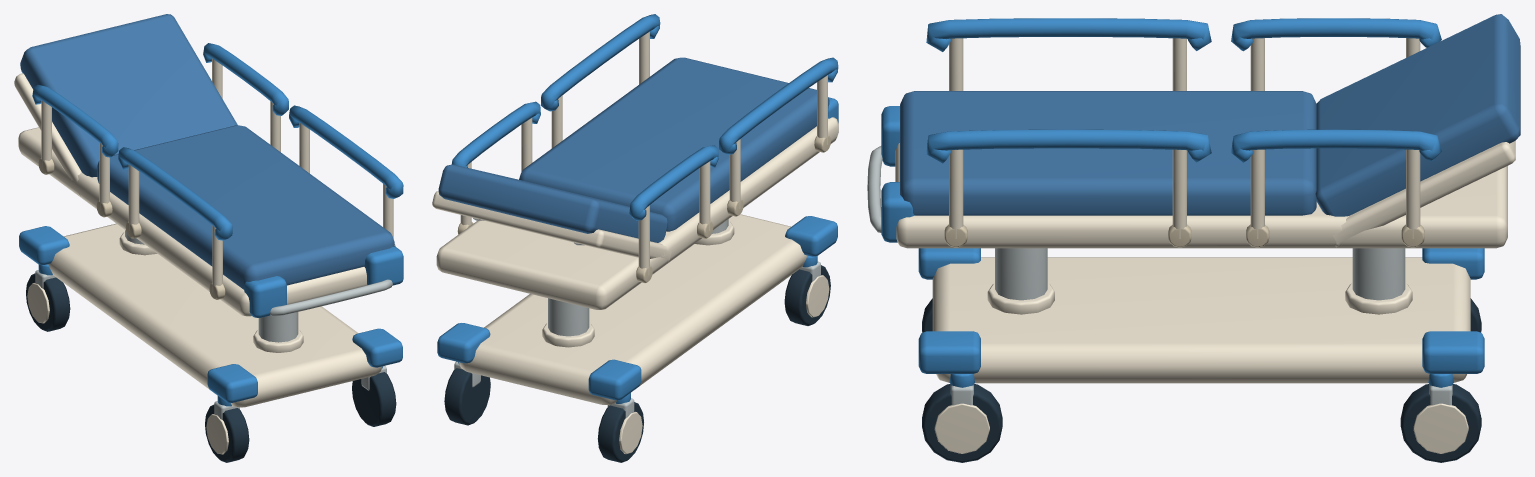
The model's file is medical-05.glb.
3 views of the same model, side by side, from view 1: azimuth 30°, elevation 25°; view 2: azimuth 150°, elevation 25°; view 3: azimuth 270°, elevation 25° (orthographic). The views are drawn at different scales.
Parts seen in each view (by area): view 1: Fixed_Assembly_Plastic, Fixed_Assembly_Soft, Articulated_Head_Soft, Guardrails_Plastic, Fixed_Assembly_Metal, Articulated_Head_Plastic; view 2: Fixed_Assembly_Plastic, Fixed_Assembly_Soft, Guardrails_Plastic, Articulated_Head_Soft, Articulated_Head_Plastic, Fixed_Assembly_Metal; view 3: Fixed_Assembly_Plastic, Fixed_Assembly_Soft, Guardrails_Plastic, Articulated_Head_Soft, Fixed_Assembly_Metal, Articulated_Head_Plastic.
Boxes of the visible parts, bbox=[...] form: Fixed_Assembly_Plastic: bbox=[18, 127, 403, 454]; Fixed_Assembly_Soft: bbox=[26, 125, 396, 462]; Articulated_Head_Soft: bbox=[20, 14, 237, 177]; Guardrails_Plastic: bbox=[32, 43, 403, 299]; Fixed_Assembly_Metal: bbox=[35, 230, 392, 419]; Articulated_Head_Plastic: bbox=[14, 73, 81, 196]; Fixed_Assembly_Plastic: bbox=[436, 97, 838, 453]; Fixed_Assembly_Soft: bbox=[444, 57, 830, 462]; Guardrails_Plastic: bbox=[451, 14, 838, 282]; Articulated_Head_Soft: bbox=[438, 164, 667, 242]; Articulated_Head_Plastic: bbox=[432, 191, 671, 262]; Fixed_Assembly_Metal: bbox=[454, 218, 820, 417]; Fixed_Assembly_Plastic: bbox=[881, 106, 1507, 453]; Fixed_Assembly_Soft: bbox=[900, 91, 1481, 462]; Guardrails_Plastic: bbox=[926, 18, 1441, 247]; Articulated_Head_Soft: bbox=[1315, 14, 1520, 216]; Fixed_Assembly_Metal: bbox=[867, 146, 1452, 405]; Articulated_Head_Plastic: bbox=[1332, 141, 1515, 247].
Bounding box in the file's own units: 0.912 × 1.25 × 2.1.
3 materials, 3 textured.
